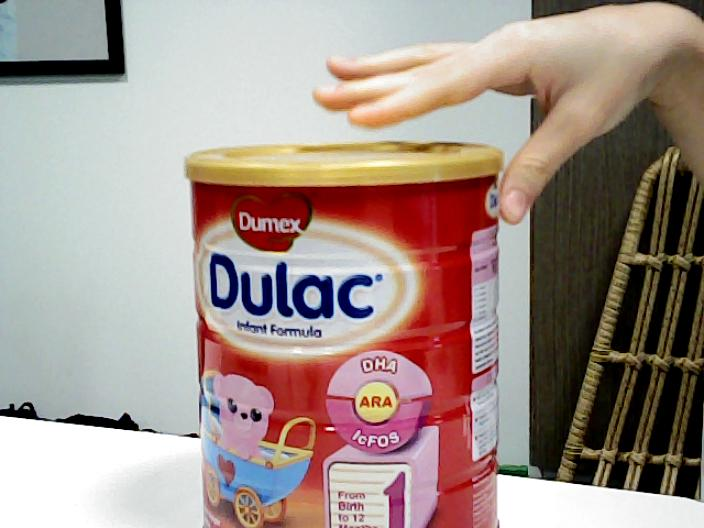Babymilk-powder-_800-899g_NonHalal_NonHealthy: (181, 140, 506, 528)
